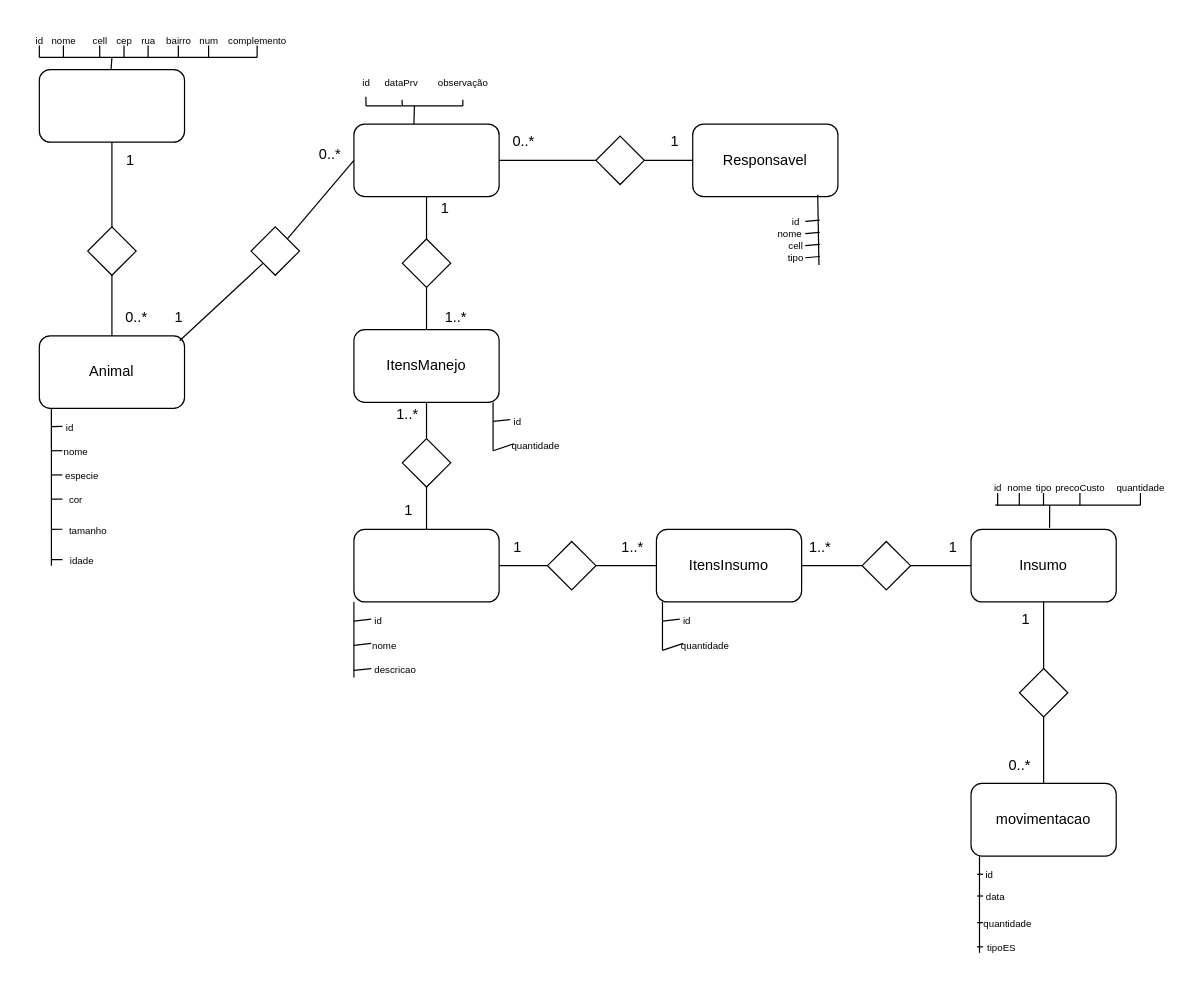
Some shapes in this 1197 by 985 pixel diagram are drawn without their labels. Each missing label, with the centre of its shape:
Agendamento: point (426, 160)
Manejo: point (426, 565)
Tutor: point (111, 105)
